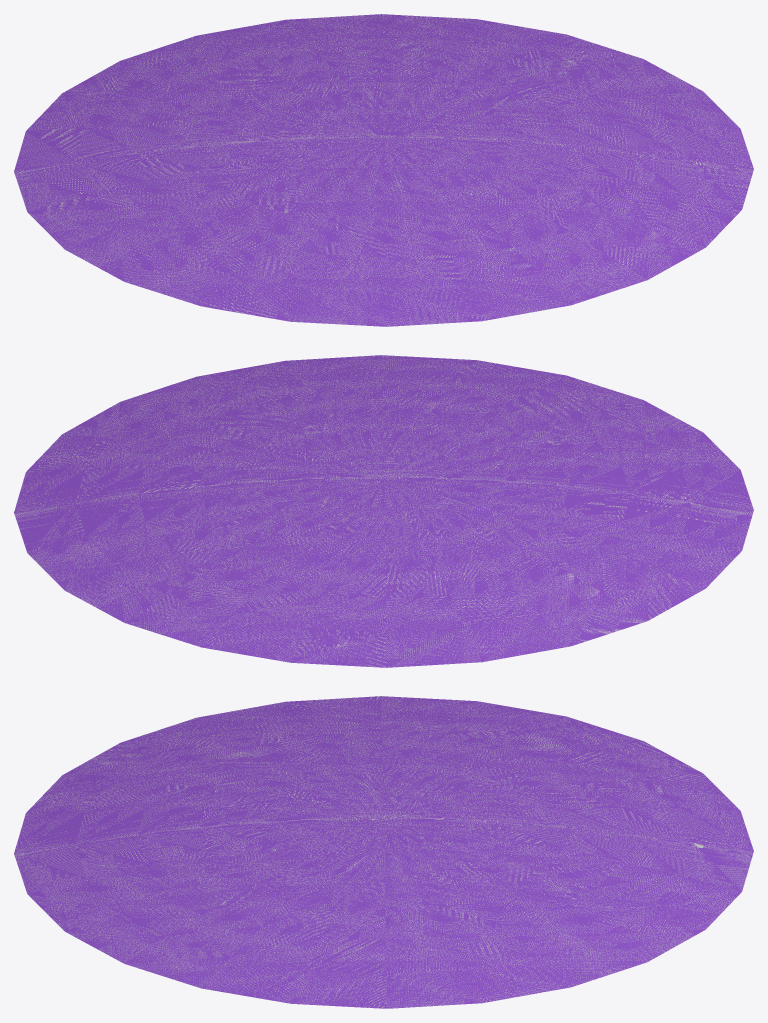
File: original-6.obj
3 views of the same model, one above another, from view 1: azimuth 30°, elevation 25°; view 2: azimuth 150°, elevation 25°; view 3: azimuth 270°, elevation 25° (orthographic).
Parts seen in each view (by area): view 1: Group4/mesh4/mesh4-geometry#mesh4-geometry; view 2: Group4/mesh4/mesh4-geometry#mesh4-geometry; view 3: Group4/mesh4/mesh4-geometry#mesh4-geometry.
Part boxes in pixels (x1=…): Group4/mesh4/mesh4-geometry#mesh4-geometry: x1=14, y1=14, x2=753, y2=326; Group4/mesh4/mesh4-geometry#mesh4-geometry: x1=14, y1=355, x2=753, y2=667; Group4/mesh4/mesh4-geometry#mesh4-geometry: x1=14, y1=696, x2=753, y2=1008.
Bounding box in the file's own units: 1.54 × 0.0713 × 1.54.
